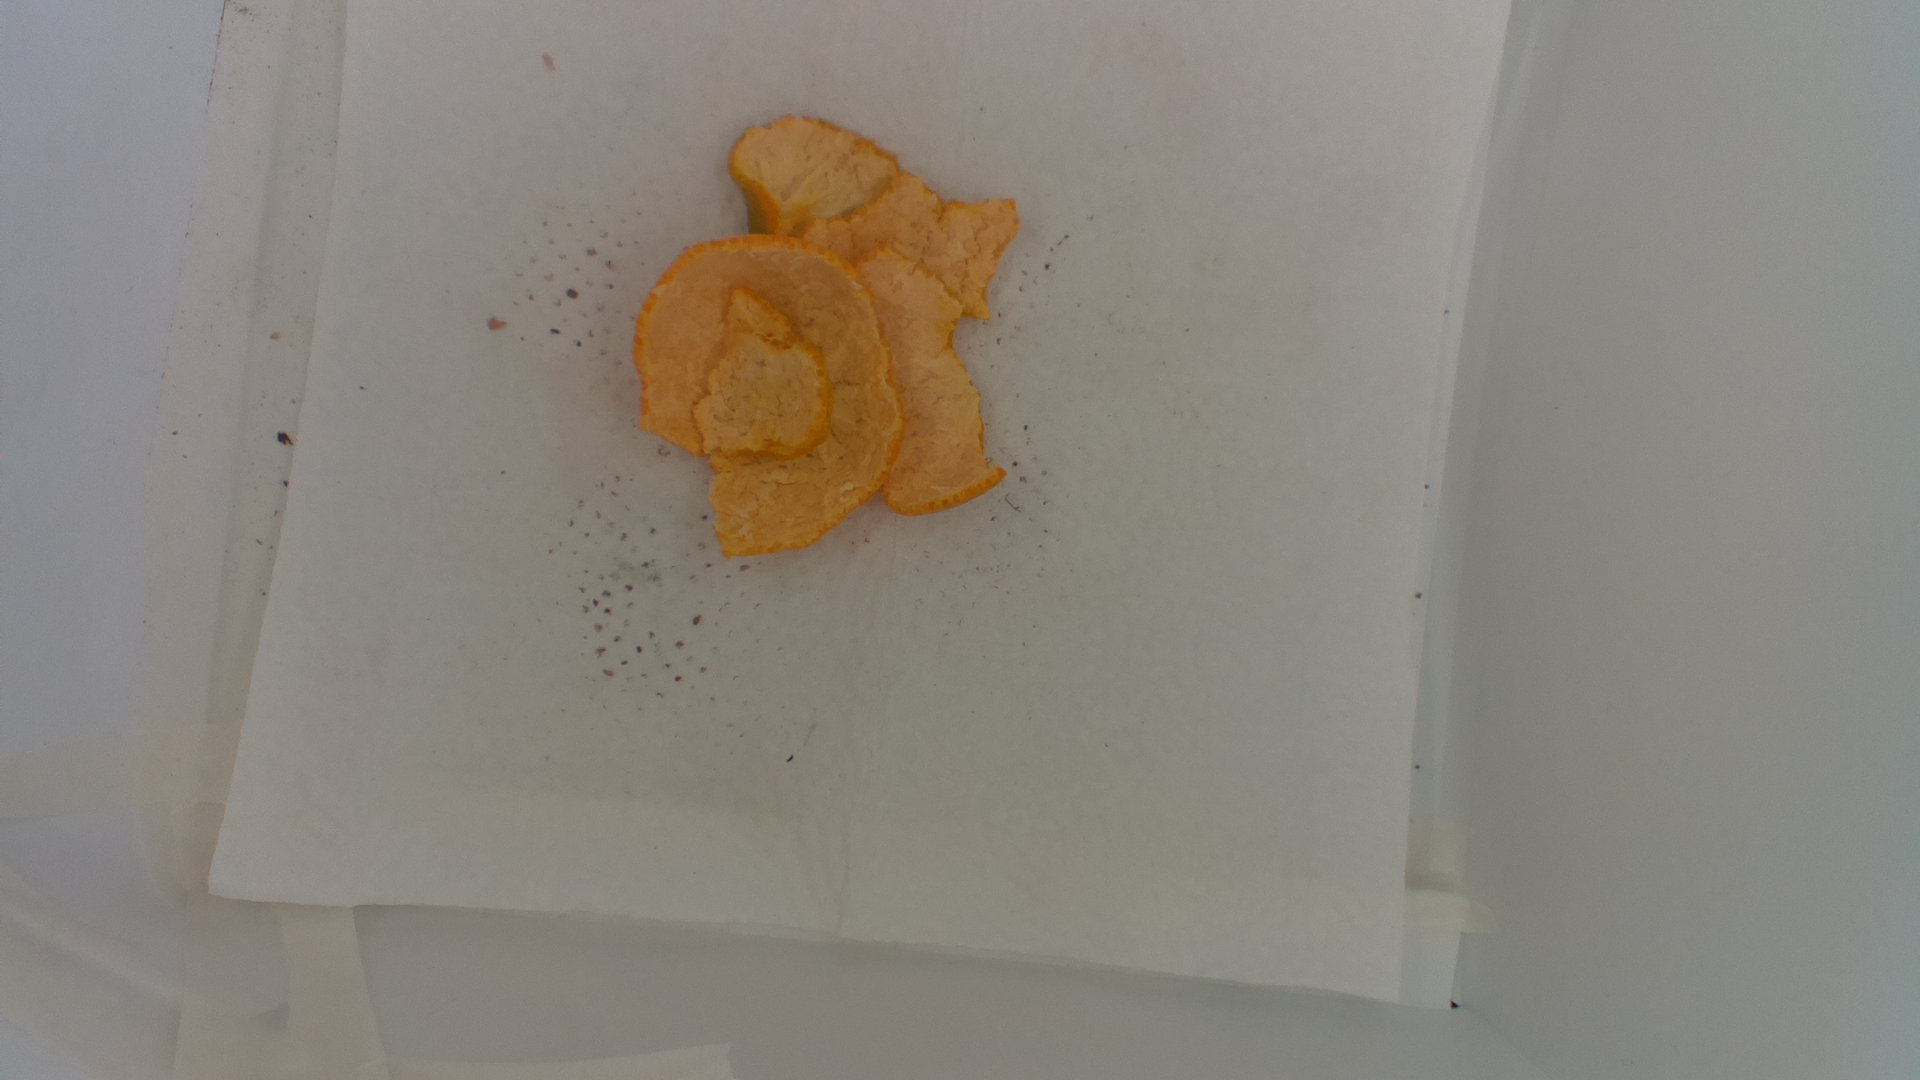fruit: (622, 109, 1033, 560)
